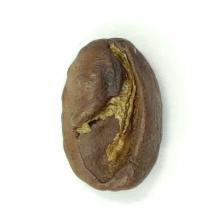NG: (66, 39, 157, 187)
